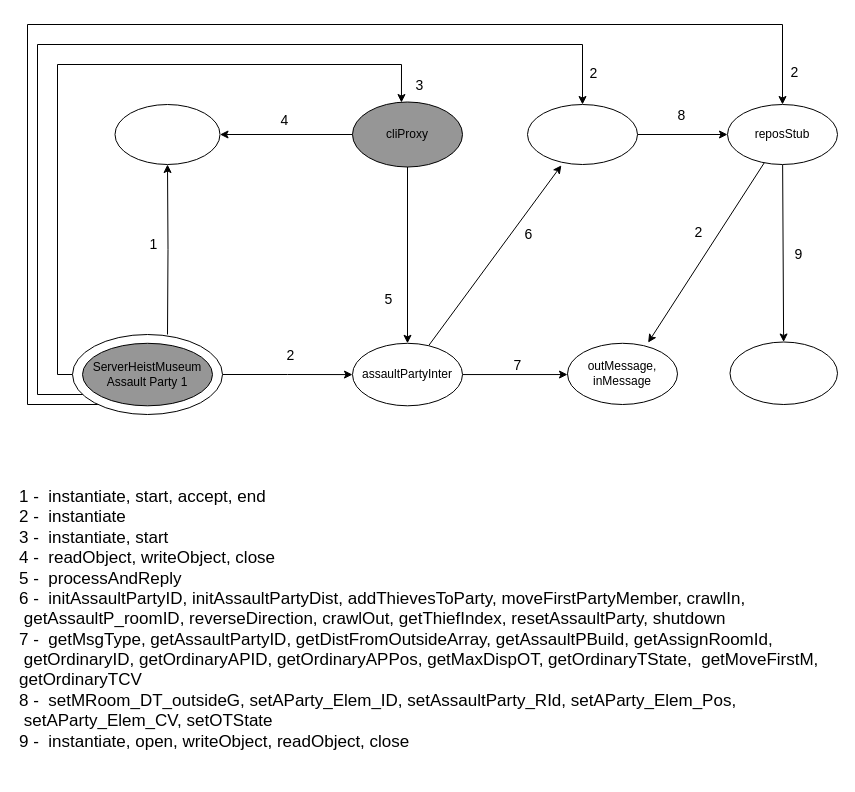
This 855x792 diagram has some shape labels left out. Each missing label, with the centre of its shape:
"assaultParty" goes at point (582, 134).
"com" goes at point (783, 372).
"scon" goes at point (167, 134).
